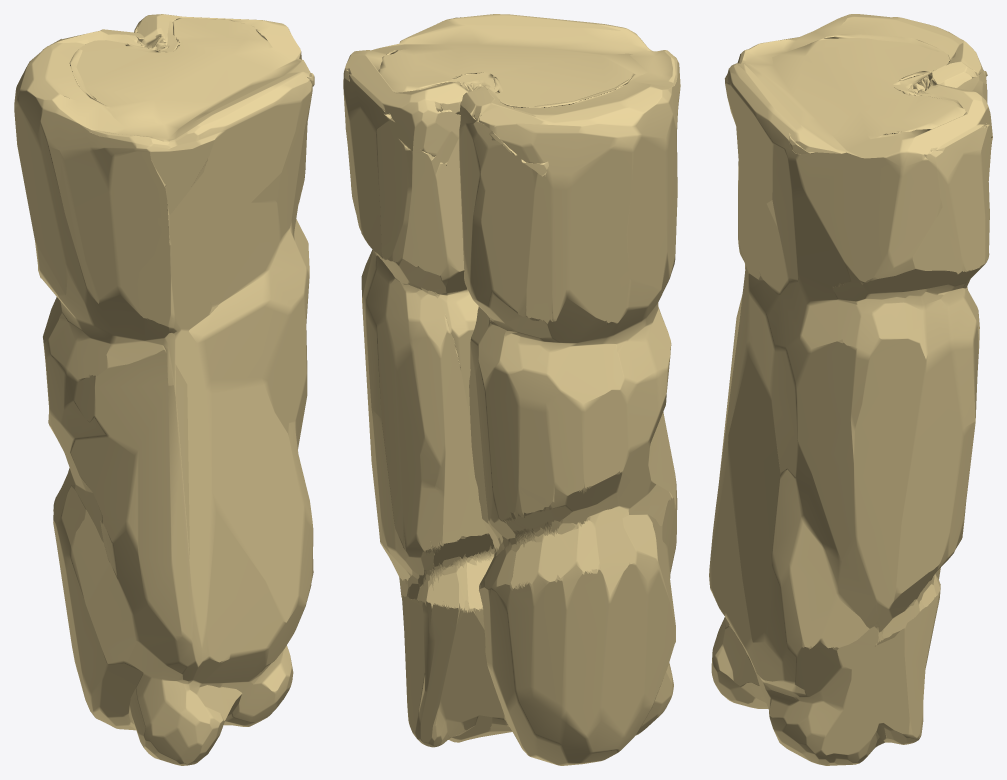
The model's file is gap_PolyShape__16_LODs.fbx.
The picture shows the model from 3 angles, left to right: view 1: azimuth 30°, elevation 25°; view 2: azimuth 150°, elevation 25°; view 3: azimuth 270°, elevation 25°; orthographic projection. The views are drawn at different scales.
Visible parts, largest first — view 1: PolyShape (16)_LOD0; view 2: PolyShape (16)_LOD0; view 3: PolyShape (16)_LOD0.
Boxes of the visible parts, <box> form: PolyShape (16)_LOD0: <box>14,14,314,765</box>; PolyShape (16)_LOD0: <box>343,14,680,765</box>; PolyShape (16)_LOD0: <box>709,14,992,765</box>.
Size of what is drawn, in the model's own units: 842 by 1927 by 750.
